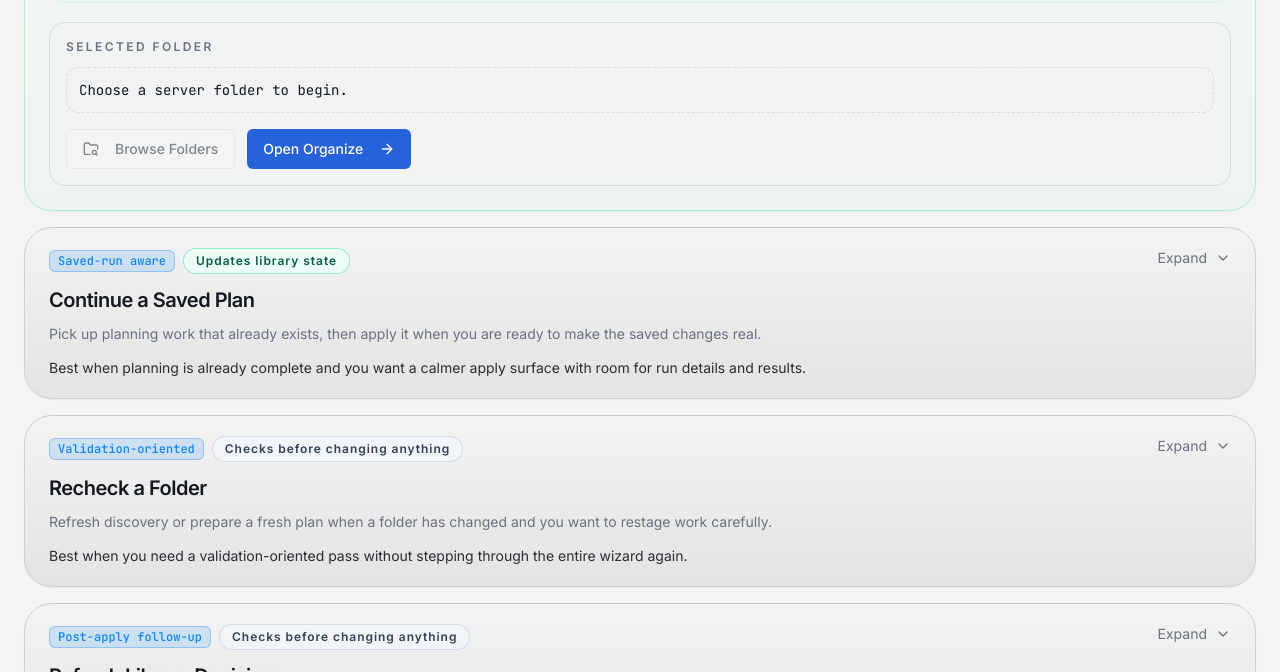
Test: Import page › keeps controls visible while guidance stays collapsed by default
The image size is (1280, 672).
(page scrolled)
What coordinates should you click on to do the following:
click the button "Continue a Saved Plan"
I would click on:
 (640, 312)
Its box is [25,228,1255,398].
(page scrolled)
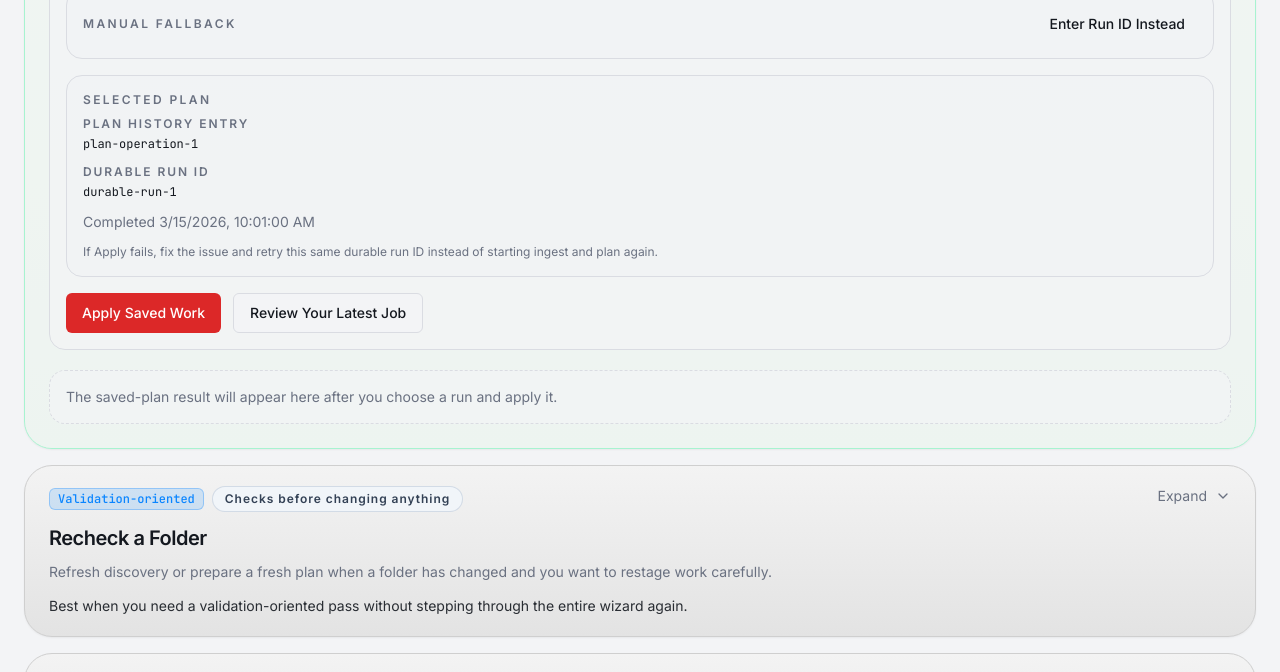
Expected: the text "What this step does" is not shown
Expected: the button "Apply Saved Work" is shown, [66,292,221,332]
